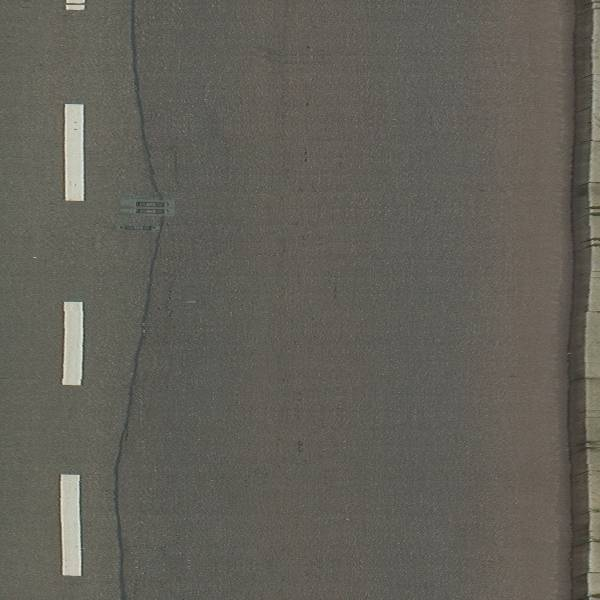road_damage: (112, 246, 158, 459), (108, 192, 177, 243)
